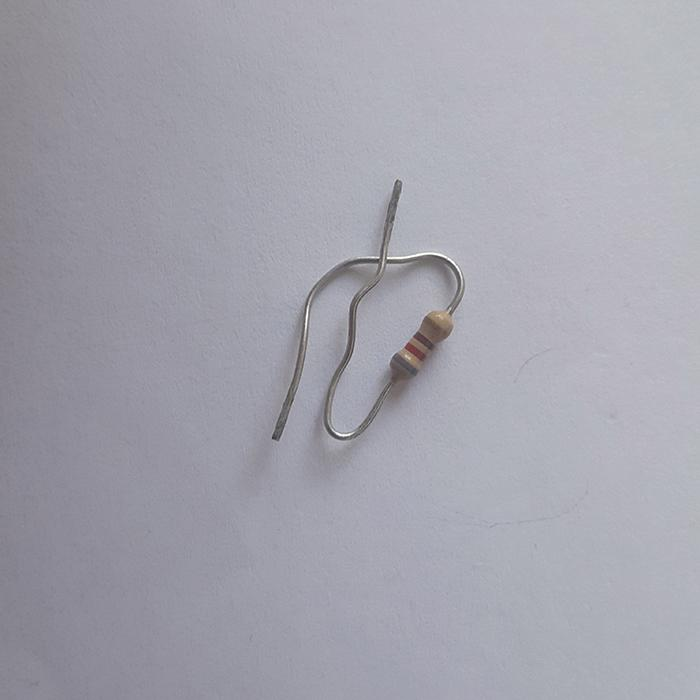resistor: (391, 309, 455, 381)
